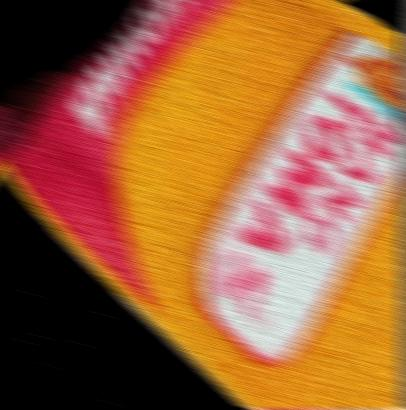Datu Puti soy sauce: (398, 408, 406, 410)
mang tomas: (0, 0, 406, 410)
sting: (247, 408, 406, 410)
